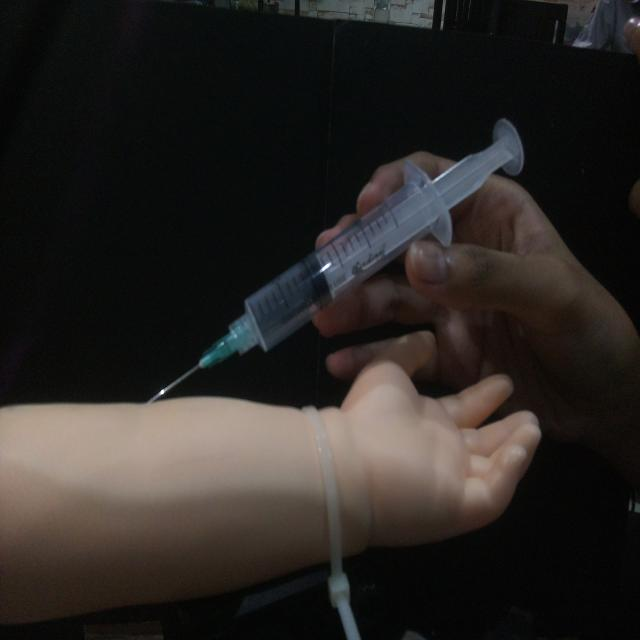20deg: (143, 114, 526, 406)
